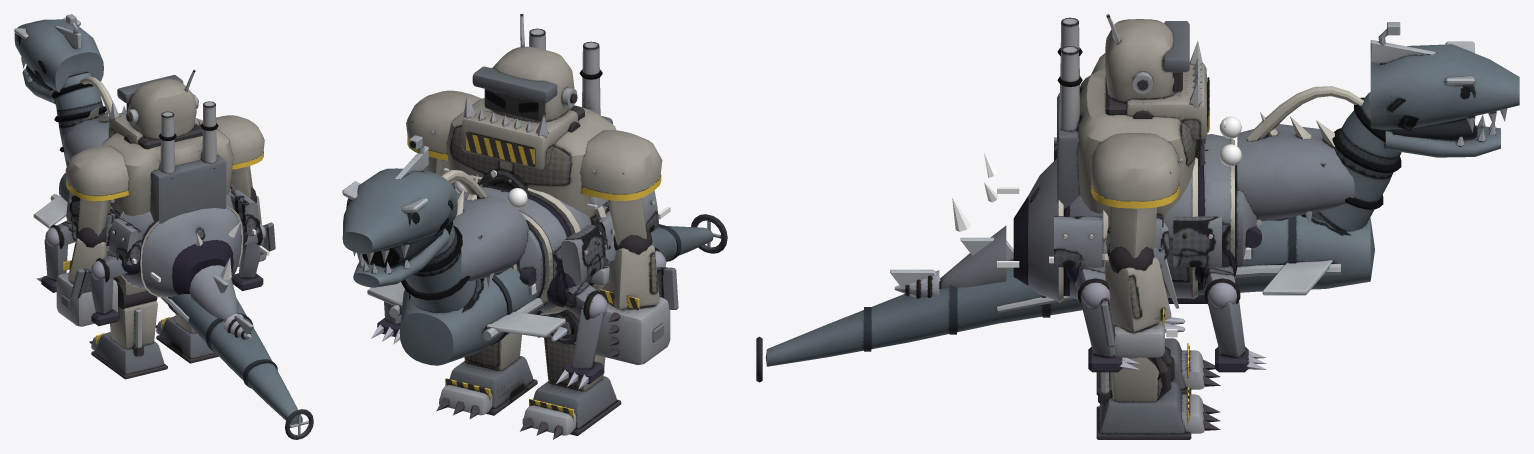
File: Bosses.fbx
3 renders of one model, left to right at view 1: azimuth 30°, elevation 25°; view 2: azimuth 150°, elevation 25°; view 3: azimuth 270°, elevation 25°, orthographic. The views are drawn at different scales.
Visible parts, largest first — view 1: RustjawPrime_Hull.001, LumenMaw_Hull.001, LeviathanEngine_Hull.001, LumenMaw_Plates2.001, RustjawPrime_Plates3.001, LumenMaw_Glow.001; view 2: RustjawPrime_Hull.001, LeviathanEngine_Hull.001, LumenMaw_Hull.001, LumenMaw_Plates2.001, NullWarFrame_Hull.001, RustjawPrime_Plates3.001, LeviathanEngine_Weak.001; view 3: RustjawPrime_Hull.001, LeviathanEngine_Hull.001, LumenMaw_Hull.001, LumenMaw_Plates2.001, LumenMaw_Glow.001, LeviathanEngine_Weak.001.
Part boxes in pixels (x1,y1,x2,y2): RustjawPrime_Hull.001: (56,69,266,379); LumenMaw_Hull.001: (36,76,265,339); LeviathanEngine_Hull.001: (14,14,313,439); LumenMaw_Plates2.001: (66,184,260,265); RustjawPrime_Plates3.001: (70,222,275,298); LumenMaw_Glow.001: (132,222,269,282); RustjawPrime_Hull.001: (406,14,670,439); LeviathanEngine_Hull.001: (342,135,727,365); LumenMaw_Hull.001: (371,170,666,389); LumenMaw_Plates2.001: (561,190,658,284); NullWarFrame_Hull.001: (443,167,610,341); RustjawPrime_Plates3.001: (656,267,678,309); LeviathanEngine_Weak.001: (454,180,527,208); RustjawPrime_Hull.001: (1057,14,1220,439); LeviathanEngine_Hull.001: (756,22,1519,382); LumenMaw_Hull.001: (894,86,1363,372); LumenMaw_Plates2.001: (1054,137,1221,267); LumenMaw_Glow.001: (952,152,1108,267); LeviathanEngine_Weak.001: (1219,116,1241,166).
Bounding box in the file's own units: 87.93 × 119 × 205.
Materials: 5 (4 with a texture image).
